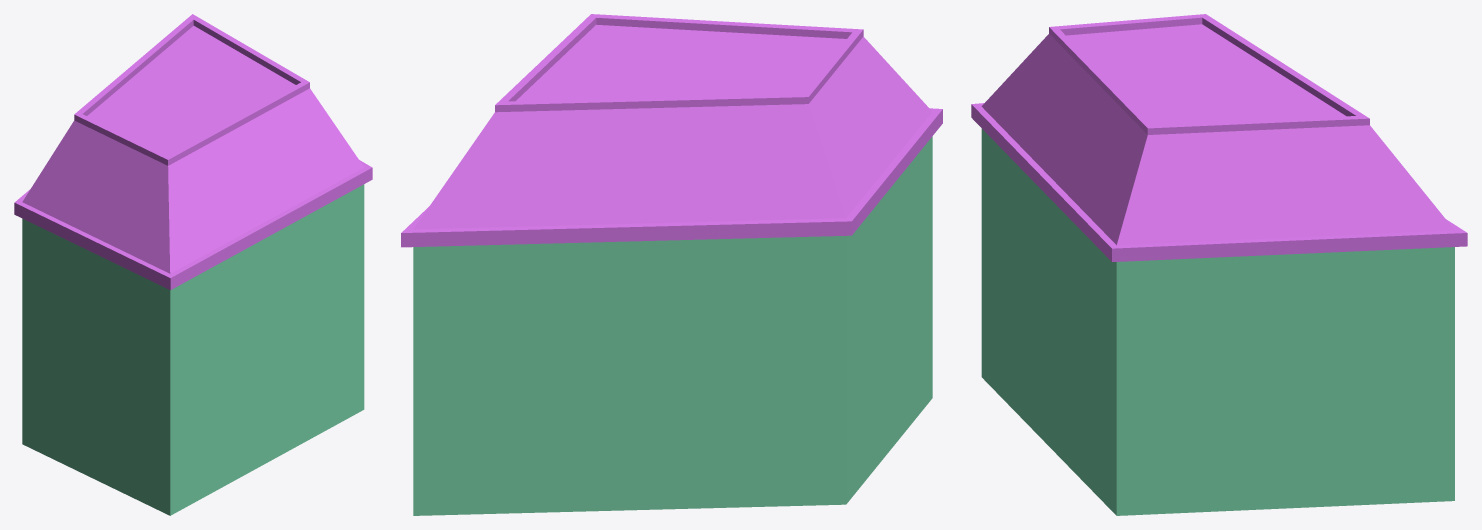
The model's file is Batiment19.fbx.
The picture shows the model from 3 angles, left to right: view 1: azimuth 30°, elevation 25°; view 2: azimuth 150°, elevation 25°; view 3: azimuth 270°, elevation 25°; orthographic projection. The views are drawn at different scales.
Parts seen in each view (by area): view 1: Batiment19; view 2: Batiment19; view 3: Batiment19.
Boxes of the visible parts, box(x1,y1,x2,y2) form: Batiment19: box(14, 14, 372, 515); Batiment19: box(401, 14, 942, 515); Batiment19: box(971, 14, 1467, 515).
Bounding box in the file's own units: 32.18 × 33.03 × 40.64.
